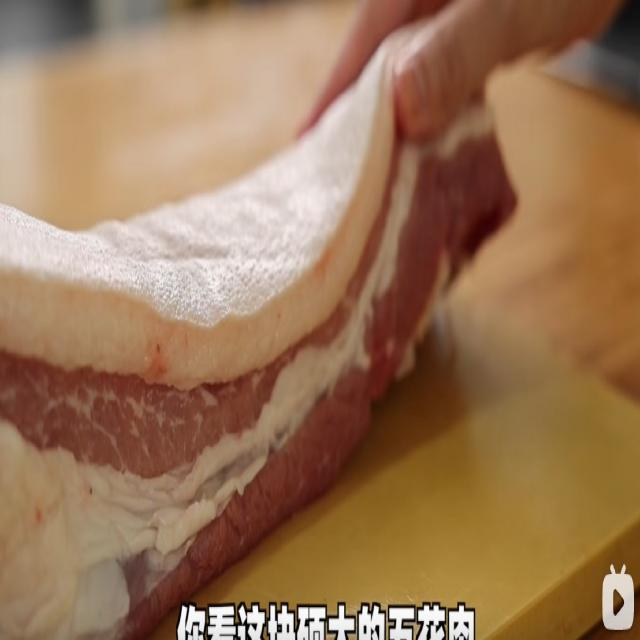pork: (0, 183, 455, 602)
